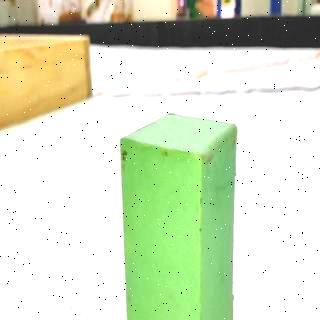greenbox: (116, 110, 242, 320)
